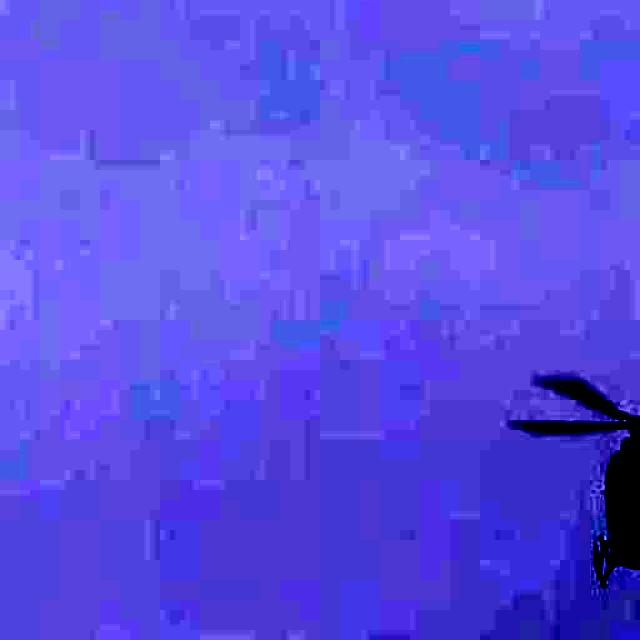drone: (488, 336, 640, 596)
